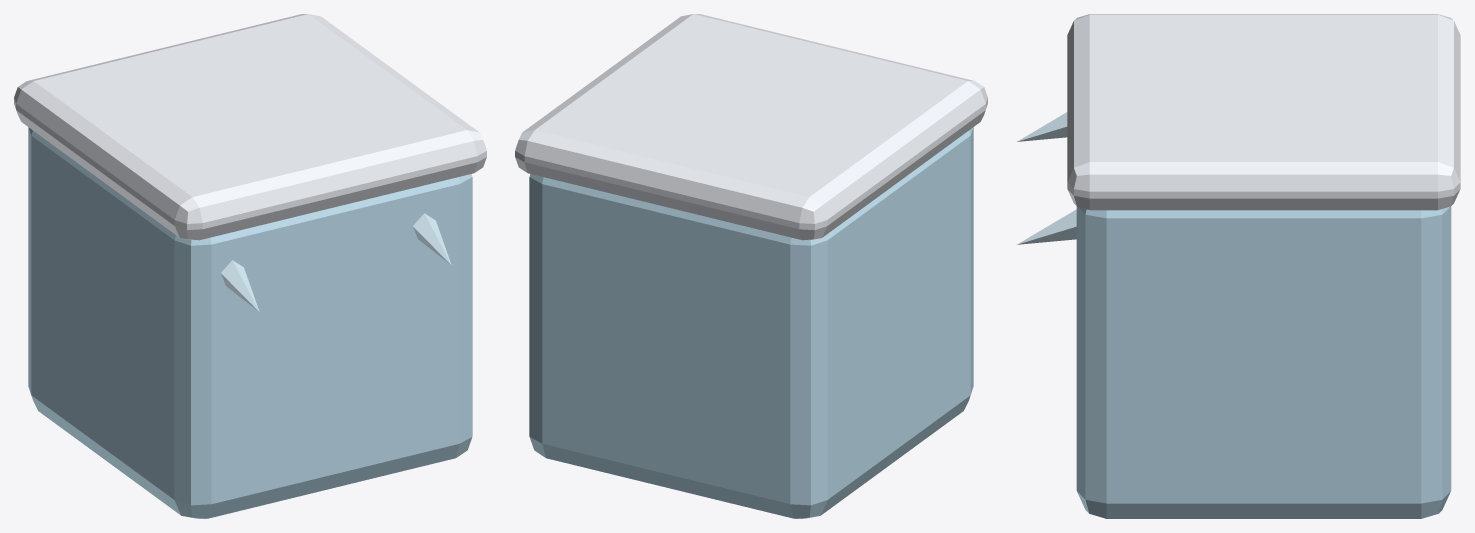
File: crate.glb
The picture shows the model from 3 angles, left to right: view 1: azimuth 30°, elevation 25°; view 2: azimuth 150°, elevation 25°; view 3: azimuth 270°, elevation 25°; orthographic projection. The views are drawn at different scales.
Visible parts, largest first — view 1: crate_mesh; view 2: crate_mesh; view 3: crate_mesh.
Boxes of the visible parts, bbox=[...] form: crate_mesh: bbox=[14, 14, 486, 518]; crate_mesh: bbox=[515, 14, 987, 518]; crate_mesh: bbox=[1017, 14, 1460, 518].
Size of the model in its own units: 1.05 by 1.07 by 1.19.
